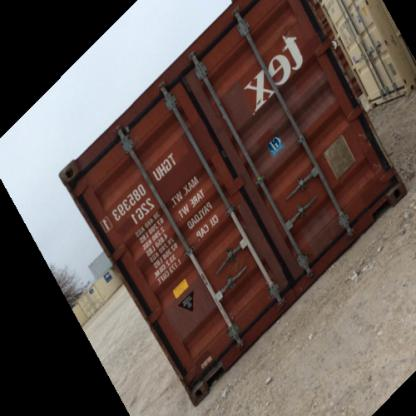Damage: (354, 130, 376, 148)
